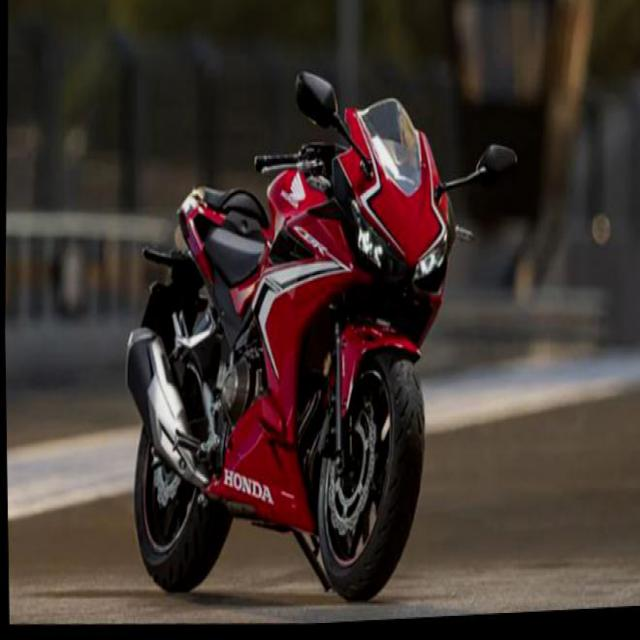CBR500R: (114, 54, 528, 623)
